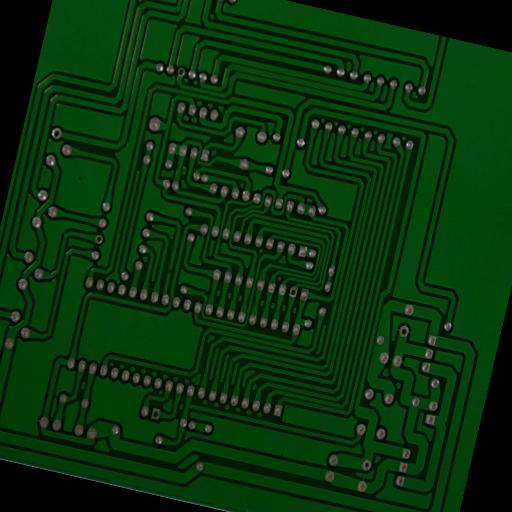missing_hole: (50, 126, 64, 142), (360, 458, 374, 473), (398, 323, 410, 339), (150, 408, 162, 422), (288, 285, 299, 299), (176, 66, 187, 79), (94, 234, 104, 246)
